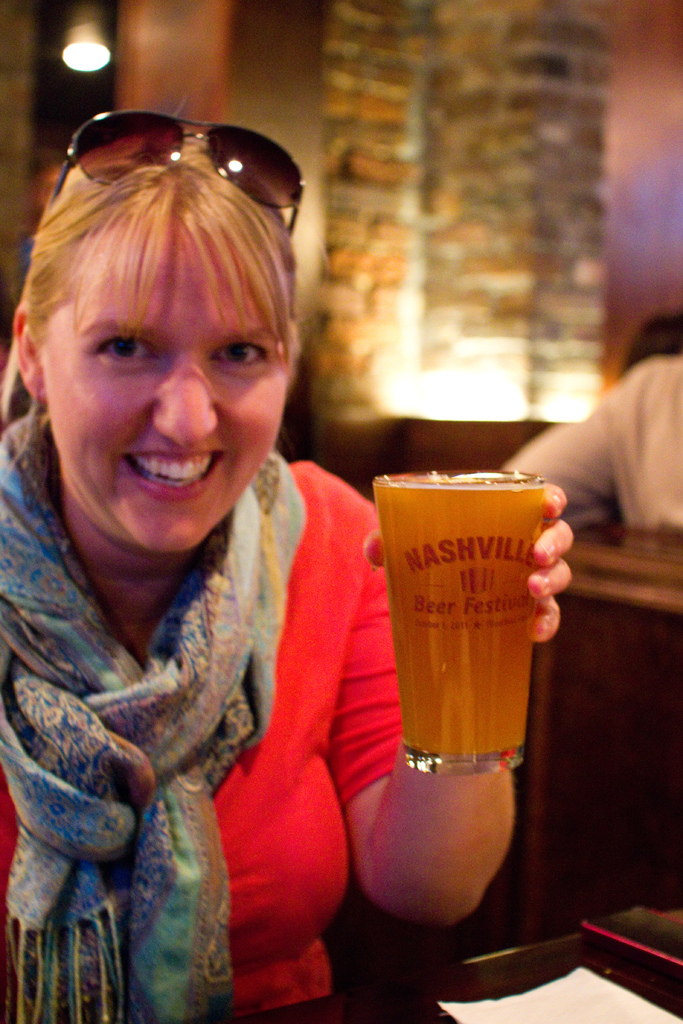Beer: (366, 462, 540, 786)
